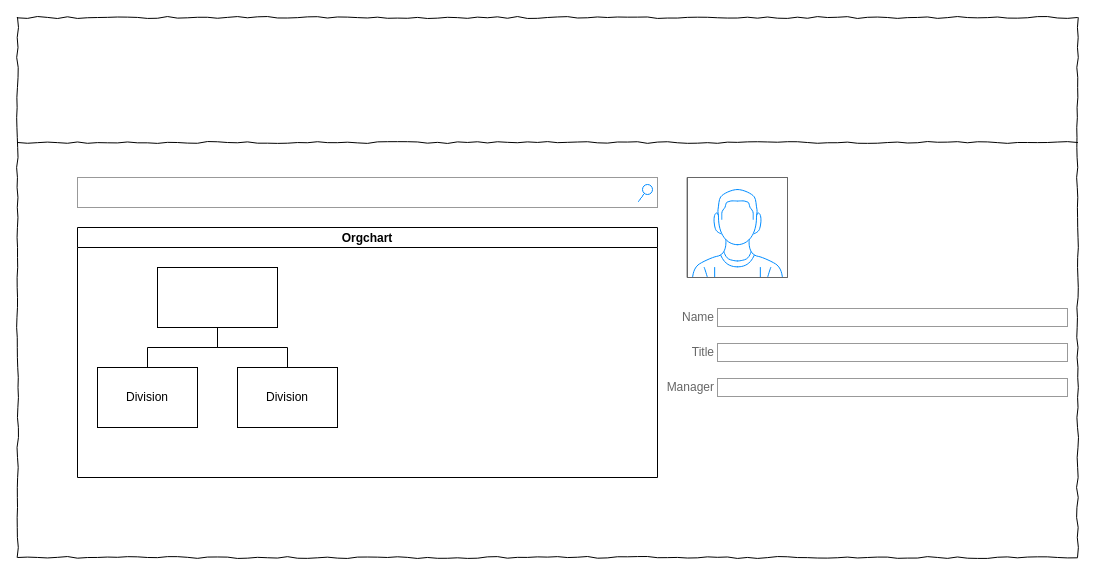
The diagram is 1095 pixels wide and 575 high, and some of its shapes have lost their labels. The shapes that lost their labels are listed below. From the top down, each one's centre as x and y in pixels, then its label:
At (367,192): "Search".
At (217,297): "Organization".
